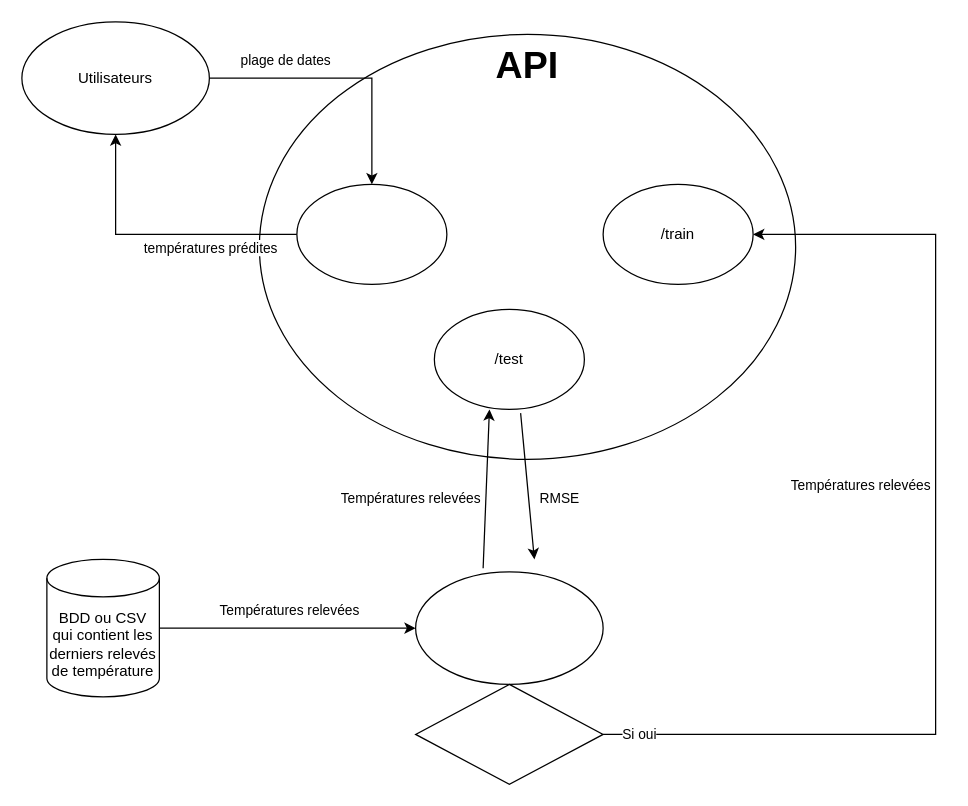
Some shapes in this 968 by 806 pixel diagram are drawn without their labels. The shapes that lost their labels are listed below. From the top down, each one's centre as x and y in pixels, then its label:
At [371,233]: "/predict".
At [508,627]: "Script de monitoring, automatiquement exécuté à intervalles réguliers".
At [508,733]: "RMSE > seuil d'erreur ?".
